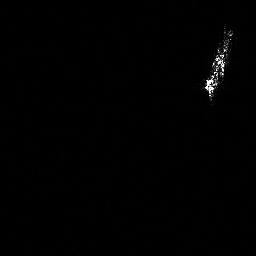ship: (199, 20, 236, 103)
